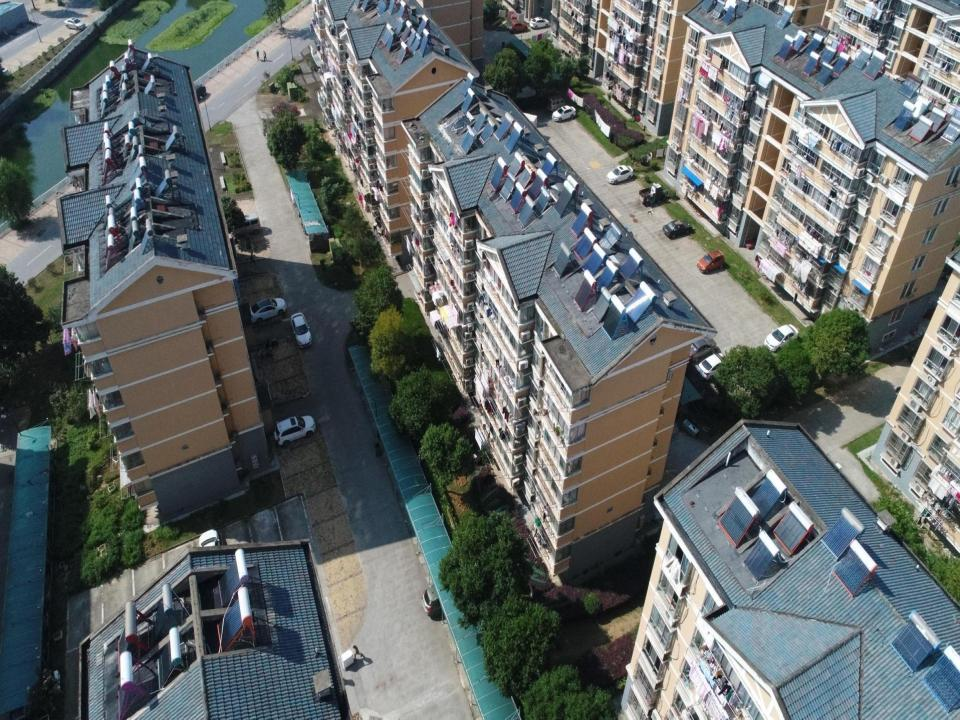car: (272, 414, 316, 448), (421, 582, 455, 617), (763, 323, 799, 353), (249, 296, 285, 324), (697, 352, 730, 382), (684, 333, 717, 363), (290, 310, 313, 348), (228, 212, 261, 238), (696, 248, 726, 274), (662, 217, 693, 239), (605, 164, 634, 185), (186, 82, 207, 108), (552, 105, 576, 122), (508, 20, 528, 34), (529, 16, 549, 29)
van: (547, 95, 568, 111)
